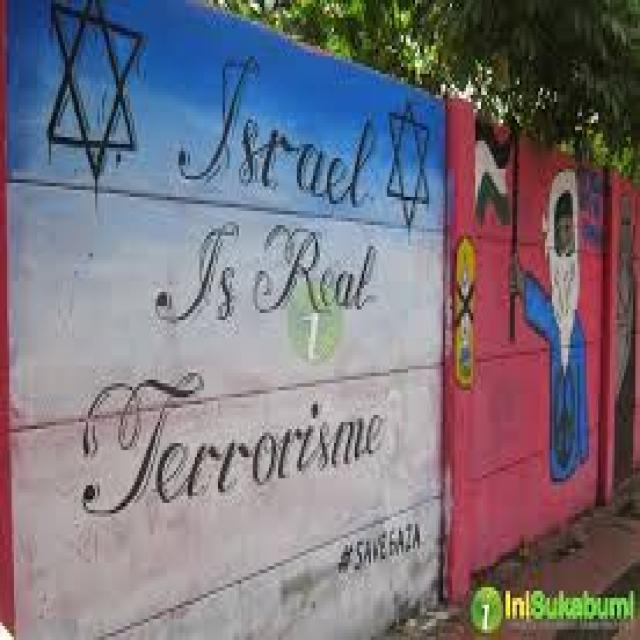-: (158, 55, 377, 318), (473, 120, 610, 488), (80, 366, 384, 516), (47, 4, 143, 183), (388, 102, 432, 227), (452, 240, 479, 390), (338, 519, 426, 565)
